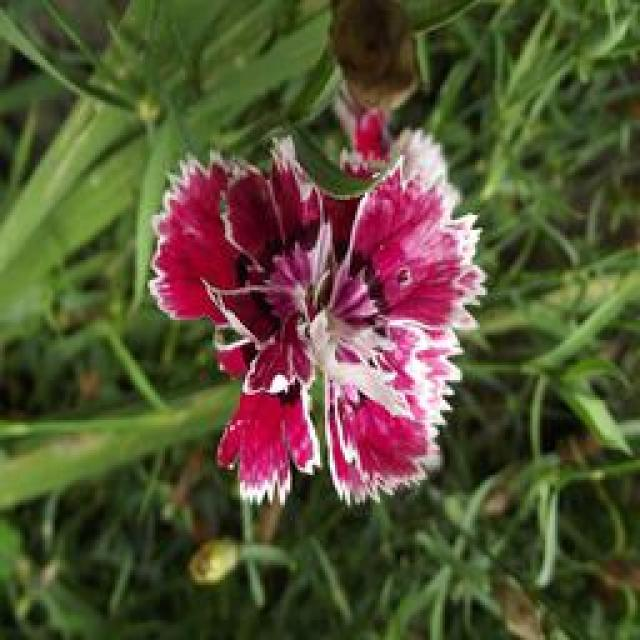carnation: (142, 129, 508, 519)
